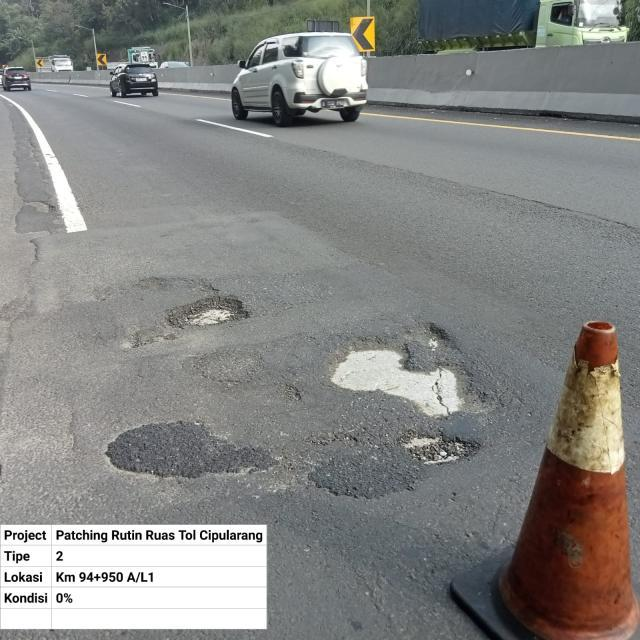Buraco: (315, 319, 509, 424), (394, 425, 486, 471), (158, 292, 253, 334), (20, 198, 58, 216)
